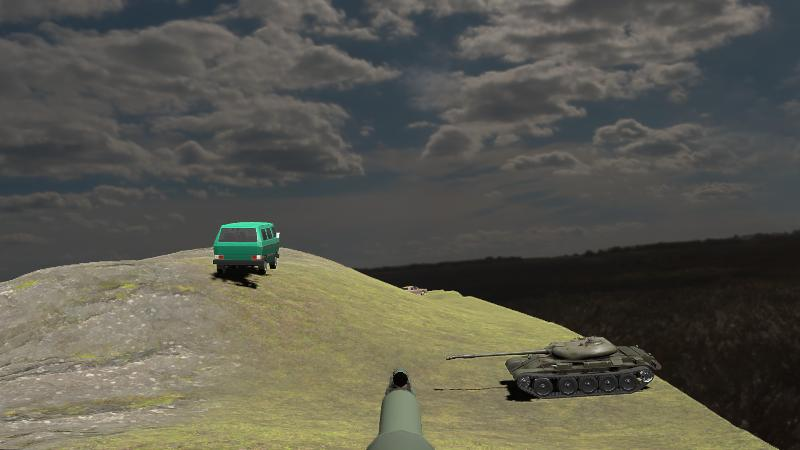Tank: (448, 335, 661, 400)
car: (212, 221, 280, 276)
